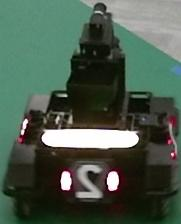armor_2: (60, 169, 120, 192)
back_2: (70, 160, 108, 199)
light: (41, 127, 140, 149)
